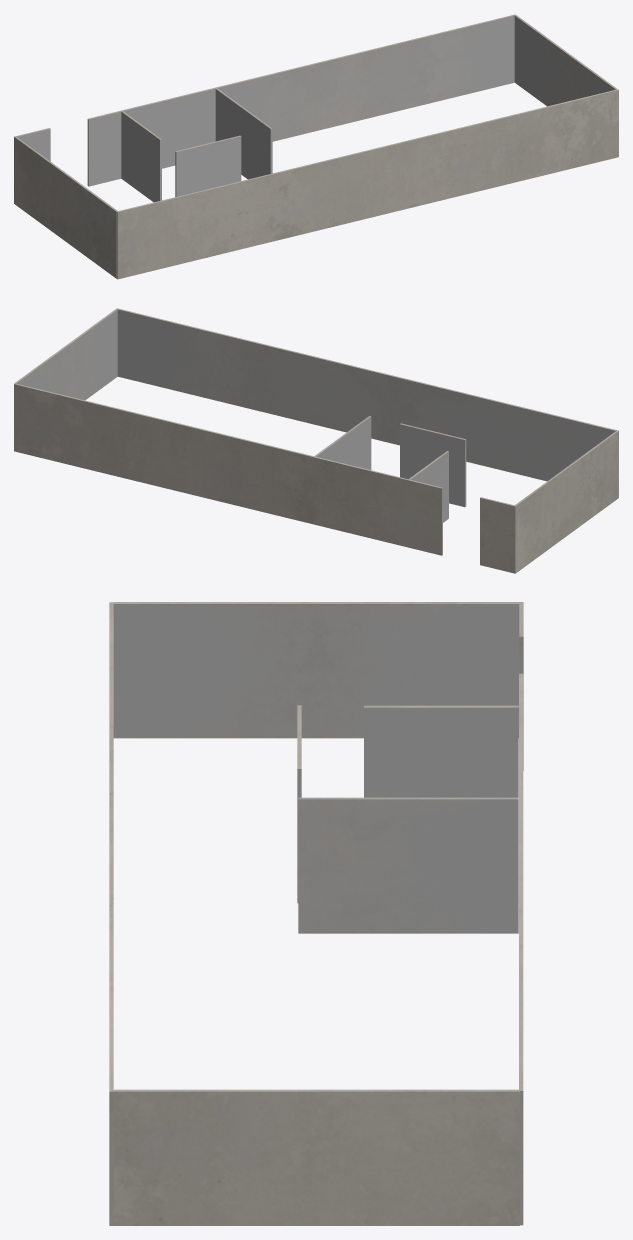
The model's file is Walls.fbx.
3 views of the same model, one above another, from view 1: azimuth 30°, elevation 25°; view 2: azimuth 150°, elevation 25°; view 3: azimuth 270°, elevation 25° (orthographic). The views are drawn at different scales.
Visible parts, largest first — view 1: node_3f4bf739_8d5e_43b0_ba91_7728dcc681e8_mesh0; view 2: node_3f4bf739_8d5e_43b0_ba91_7728dcc681e8_mesh0; view 3: node_3f4bf739_8d5e_43b0_ba91_7728dcc681e8_mesh0.
Part boxes in pixels (x1,y1,x2,y2): node_3f4bf739_8d5e_43b0_ba91_7728dcc681e8_mesh0: [14, 14, 618, 279]; node_3f4bf739_8d5e_43b0_ba91_7728dcc681e8_mesh0: [14, 308, 618, 573]; node_3f4bf739_8d5e_43b0_ba91_7728dcc681e8_mesh0: [109, 602, 523, 1225].
Size of the model in its own units: 2501 by 320 by 894.
1 material, 1 textured.
